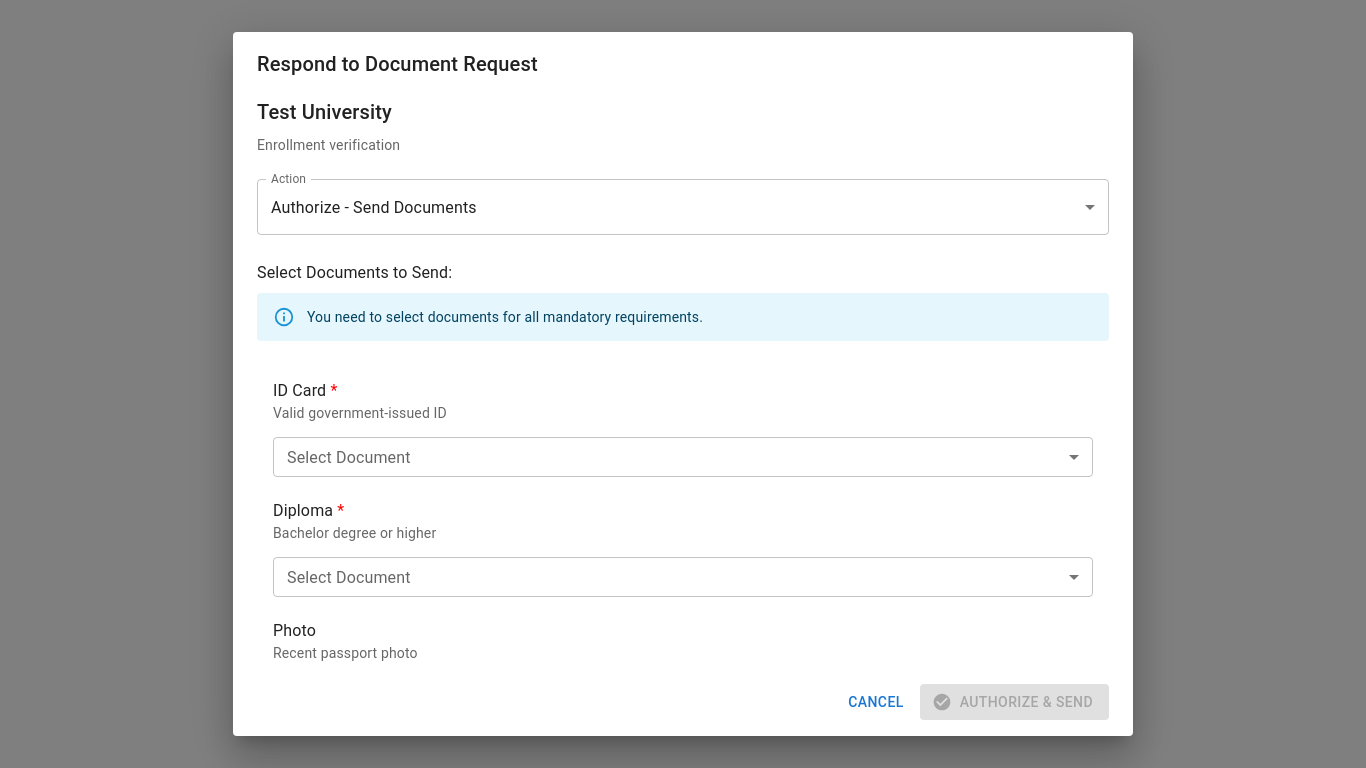
RespondRequestDialog › Reject action › should enable submit button when rejection reason is provided
Expected: the heading "Test University" is shown, top-left (257, 100), bottom-right (392, 124)
Click the dropdown named "action" at (374, 207), box top-left (271, 198), bottom-right (477, 216)
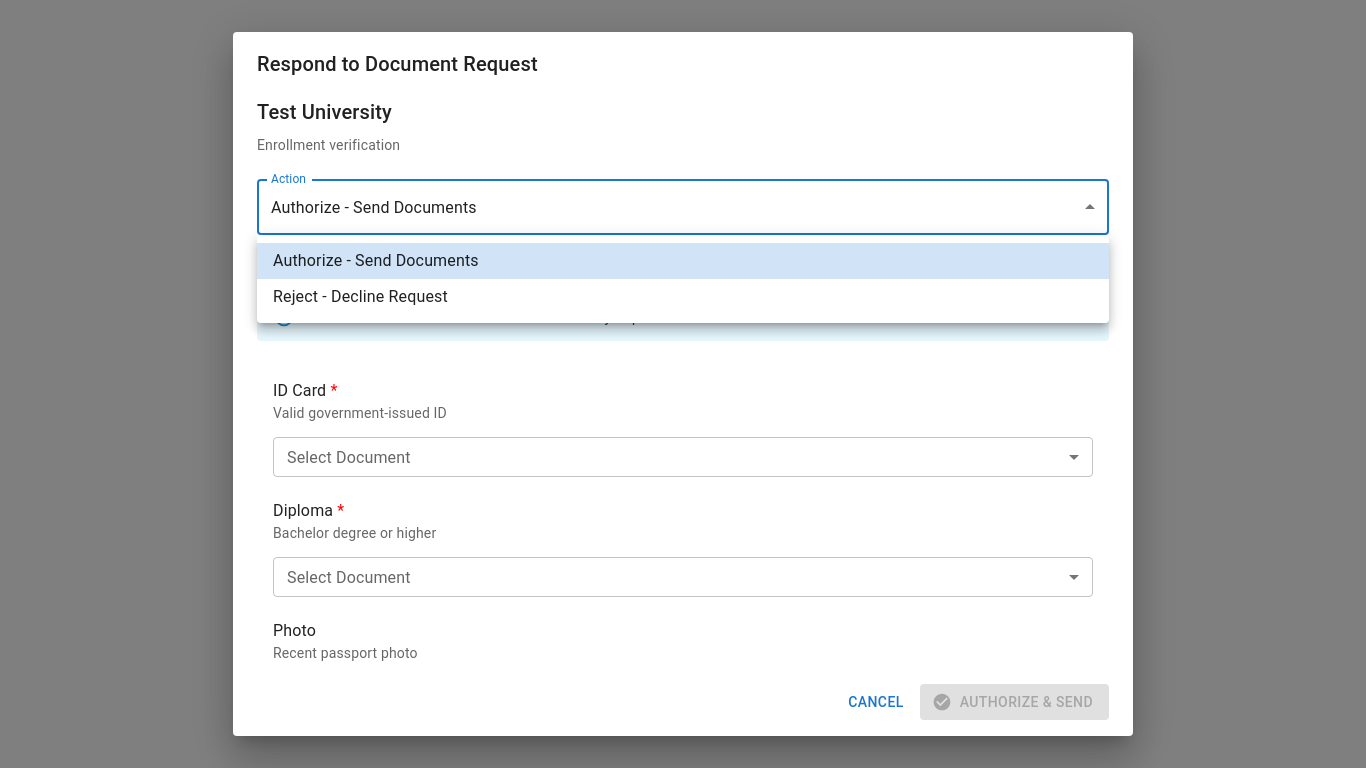
Click the option "Reject - Decline Request" at (360, 296), box top-left (273, 287), bottom-right (448, 306)
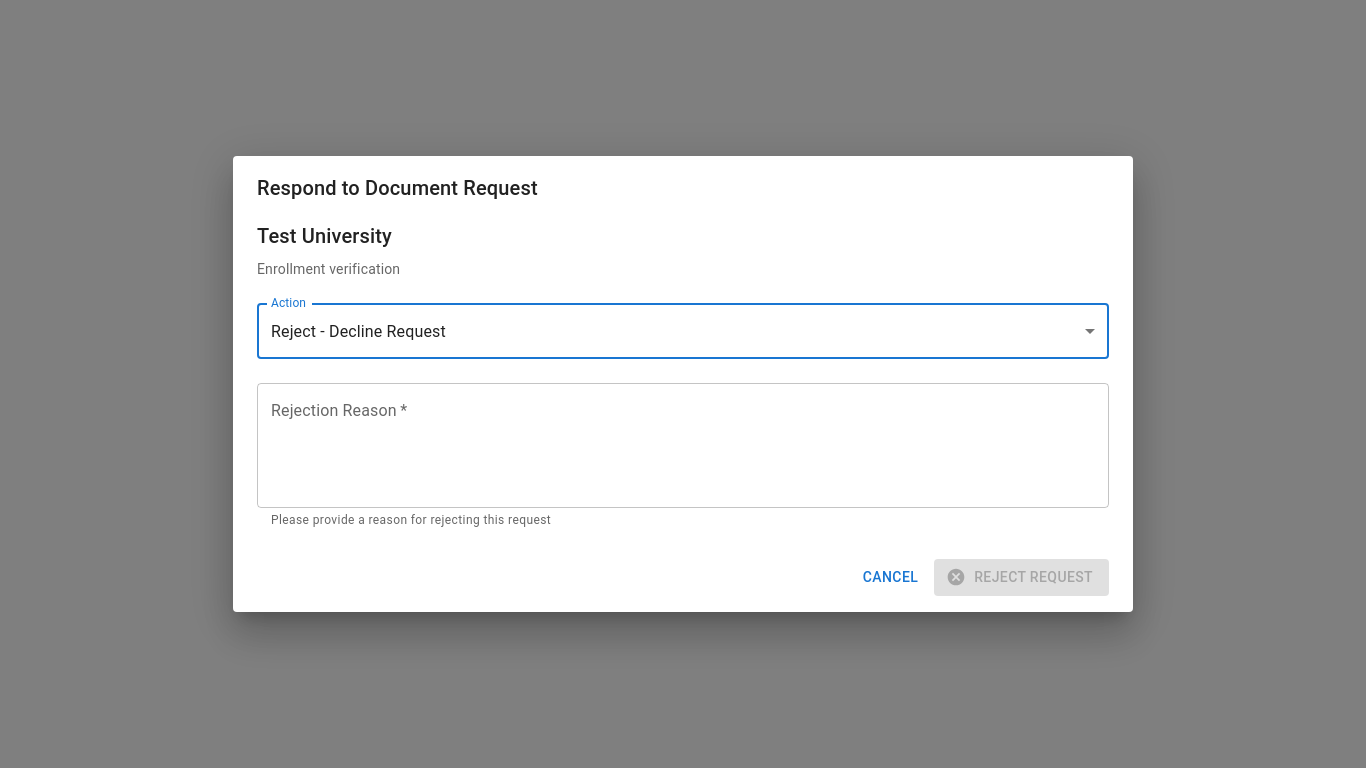
Type "I do not have the requested documents" into the text box labelled "Rejection Reason *" at (683, 446), box top-left (271, 400), bottom-right (1095, 492)
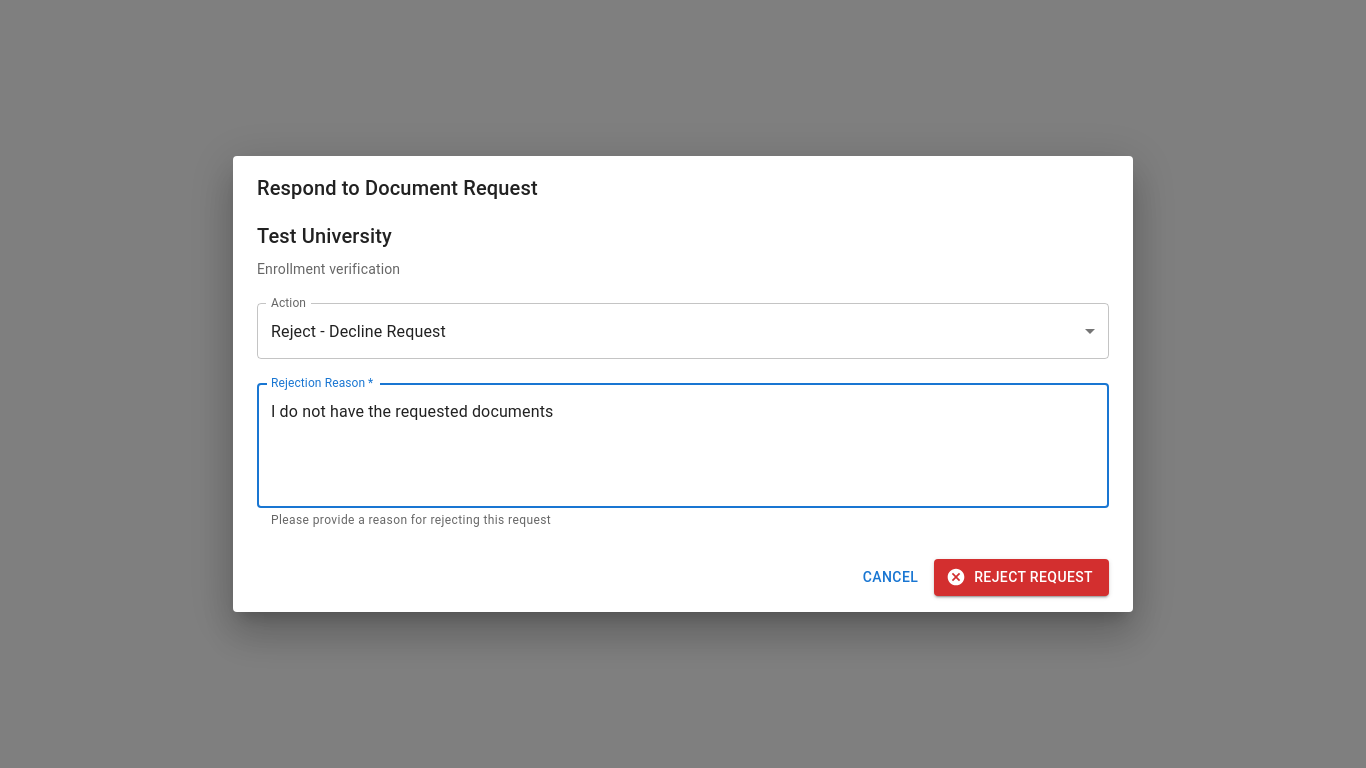
Now the button "Reject Request" is enabled, box top-left (934, 559), bottom-right (1109, 596)
